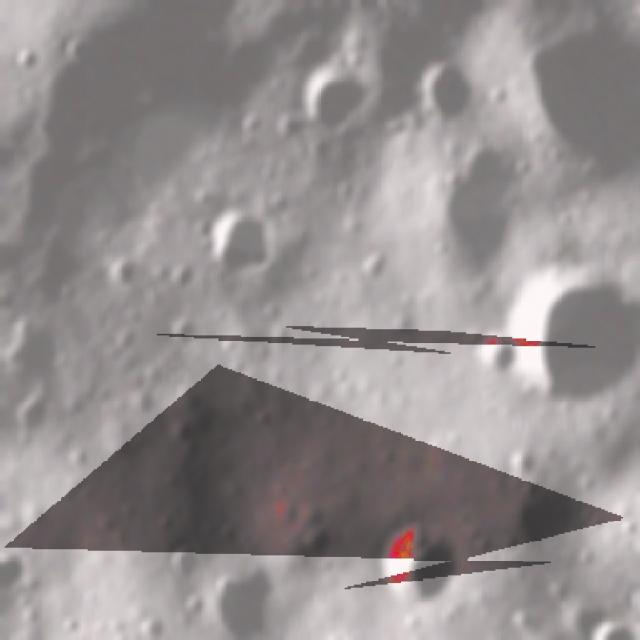crater: (494, 4, 637, 185), (422, 128, 522, 302), (509, 278, 634, 412), (370, 512, 476, 608), (191, 203, 272, 285), (408, 48, 486, 130), (297, 62, 377, 141), (206, 564, 280, 638), (500, 480, 568, 551), (2, 320, 66, 378), (469, 328, 516, 386), (7, 392, 58, 443), (157, 536, 201, 589), (558, 598, 611, 638), (96, 252, 146, 291), (502, 444, 547, 487), (352, 245, 391, 292), (164, 309, 207, 349), (503, 600, 539, 638), (300, 522, 332, 563), (0, 550, 25, 602), (274, 108, 306, 148), (160, 421, 195, 457), (124, 384, 158, 421), (167, 256, 196, 296), (138, 611, 170, 638), (615, 514, 637, 540)
